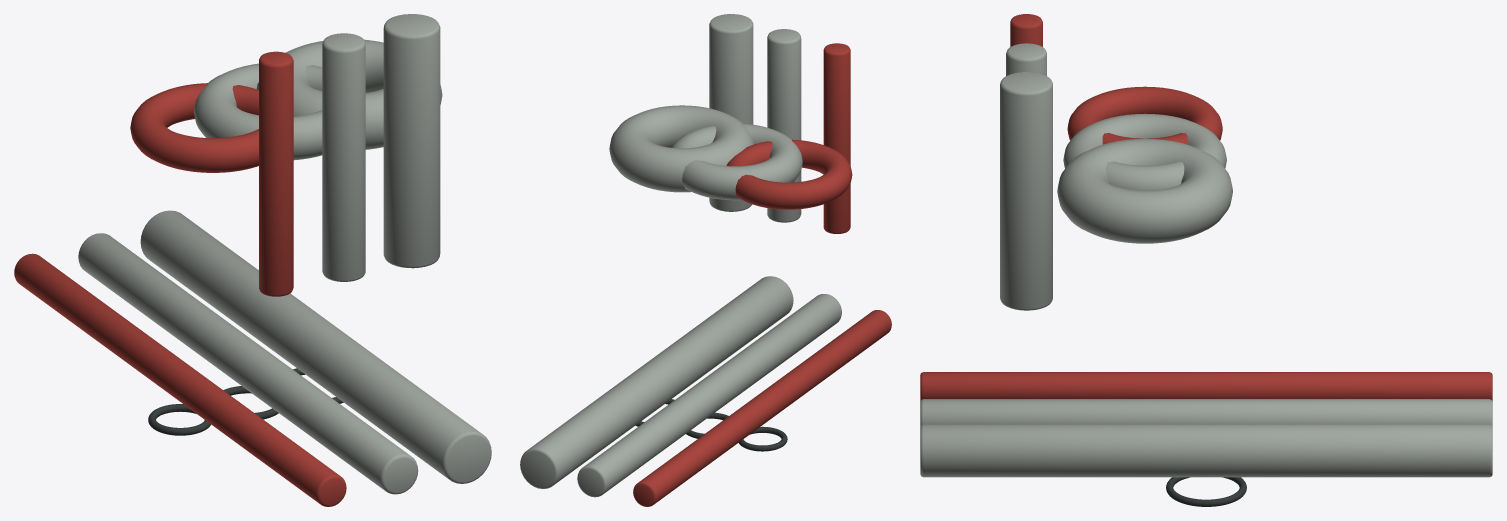
Rendered from pipe_cluster.glb.
The picture shows the model from 3 angles, left to right: view 1: azimuth 30°, elevation 25°; view 2: azimuth 150°, elevation 25°; view 3: azimuth 270°, elevation 25°; orthographic projection. The views are drawn at different scales.
Parts seen in each view (by area): view 1: Pipe2, Pipe1, PipeRun2, Pipe0, PipeRun1, PipeRun0, PipeElbow0, PipeElbow1, PipeElbow2, PipeClamp0; view 2: Pipe2, Pipe1, Pipe0, PipeElbow2, PipeElbow0, PipeRun2, PipeElbow1, PipeRun1, PipeRun0, PipeClamp0; view 3: Pipe2, Pipe0, Pipe1, PipeElbow2, PipeRun2, PipeElbow1, PipeElbow0, PipeRun1, PipeRun0, PipeClamp2.
Part boxes in pixels (x1=…): Pipe2: x1=140, y1=210, x2=491, y2=483; Pipe1: x1=78, y1=233, x2=418, y2=494; PipeRun2: x1=383, y1=14, x2=440, y2=268; Pipe0: x1=14, y1=253, x2=346, y2=506; PipeRun1: x1=322, y1=33, x2=365, y2=281; PipeRun0: x1=259, y1=51, x2=293, y2=296; PipeElbow0: x1=130, y1=83, x2=258, y2=172; PipeElbow1: x1=194, y1=63, x2=322, y2=160; PipeElbow2: x1=256, y1=39, x2=442, y2=149; PipeClamp0: x1=148, y1=404, x2=210, y2=435; Pipe2: x1=520, y1=276, x2=793, y2=488; Pipe1: x1=577, y1=294, x2=841, y2=497; Pipe0: x1=633, y1=310, x2=891, y2=506; PipeElbow2: x1=609, y1=105, x2=753, y2=192; PipeElbow0: x1=726, y1=139, x2=852, y2=209; PipeRun2: x1=709, y1=14, x2=753, y2=211; PipeElbow1: x1=671, y1=123, x2=802, y2=200; PipeRun1: x1=767, y1=29, x2=801, y2=222; PipeRun0: x1=823, y1=43, x2=850, y2=233; PipeClamp0: x1=738, y1=426, x2=787, y2=451; Pipe2: x1=920, y1=424, x2=1492, y2=477; Pipe0: x1=920, y1=372, x2=1492, y2=401; Pipe1: x1=920, y1=399, x2=1492, y2=426; PipeElbow2: x1=1057, y1=138, x2=1232, y2=243; PipeRun2: x1=1000, y1=72, x2=1052, y2=310; PipeElbow1: x1=1063, y1=113, x2=1226, y2=190; PipeElbow0: x1=1067, y1=86, x2=1222, y2=144; PipeRun1: x1=1006, y1=43, x2=1046, y2=75; PipeRun0: x1=1010, y1=14, x2=1042, y2=46; PipeClamp2: x1=1166, y1=477, x2=1246, y2=506.
Size of the model in its own units: 1.53 by 2.21 by 2.8.
